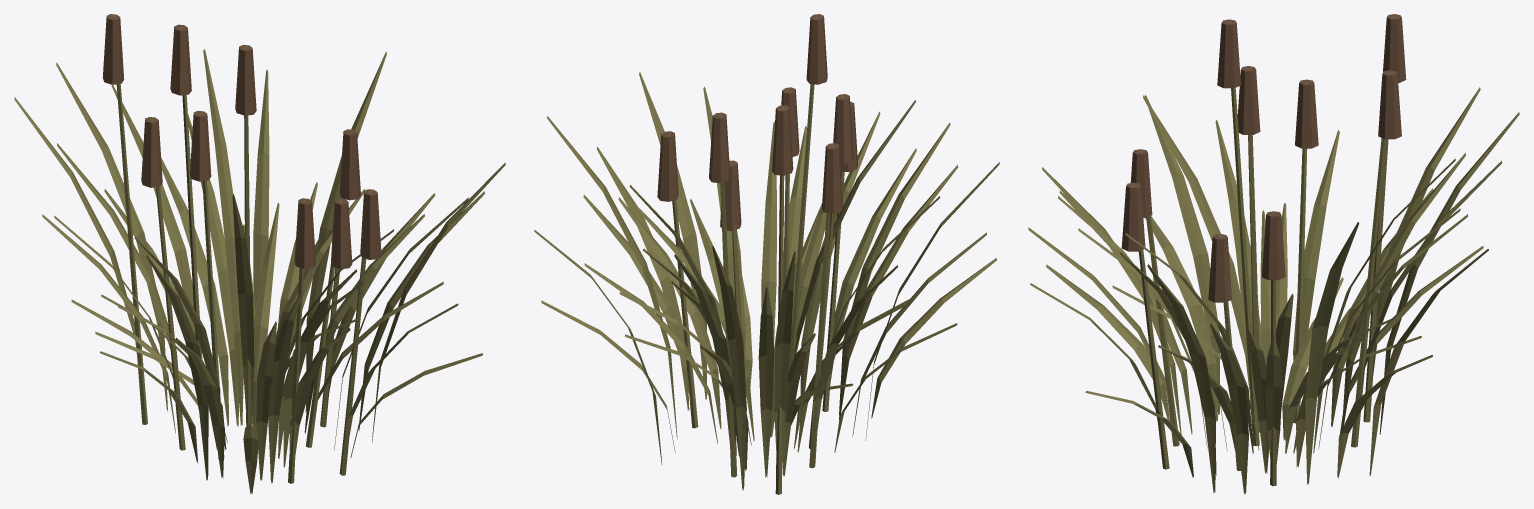
File: fen_reeds.glb
3 renders of one model, left to right at view 1: azimuth 30°, elevation 25°; view 2: azimuth 150°, elevation 25°; view 3: azimuth 270°, elevation 25°, orthographic.
Parts seen in each view (by area): view 1: fen_reeds; view 2: fen_reeds; view 3: fen_reeds.
Boxes of the visible parts, left/top/right/bottom form: fen_reeds: left=14, top=14, right=505, bottom=494; fen_reeds: left=534, top=14, right=999, bottom=494; fen_reeds: left=1028, top=14, right=1519, bottom=494.
Bounding box in the file's own units: 1.08 × 1.16 × 1.24.
